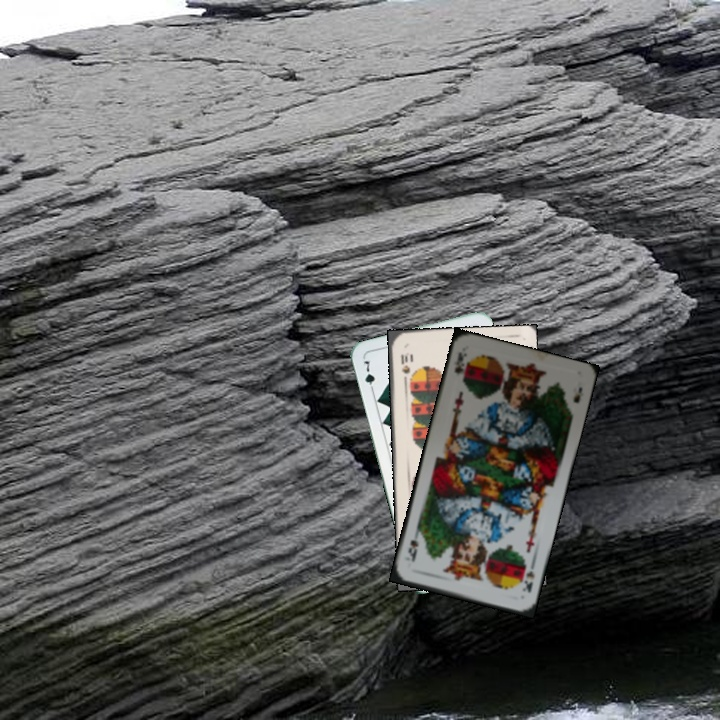G7: (359, 356, 378, 395)
S10: (397, 349, 412, 385)
SK: (517, 559, 538, 595), (450, 347, 470, 384)
